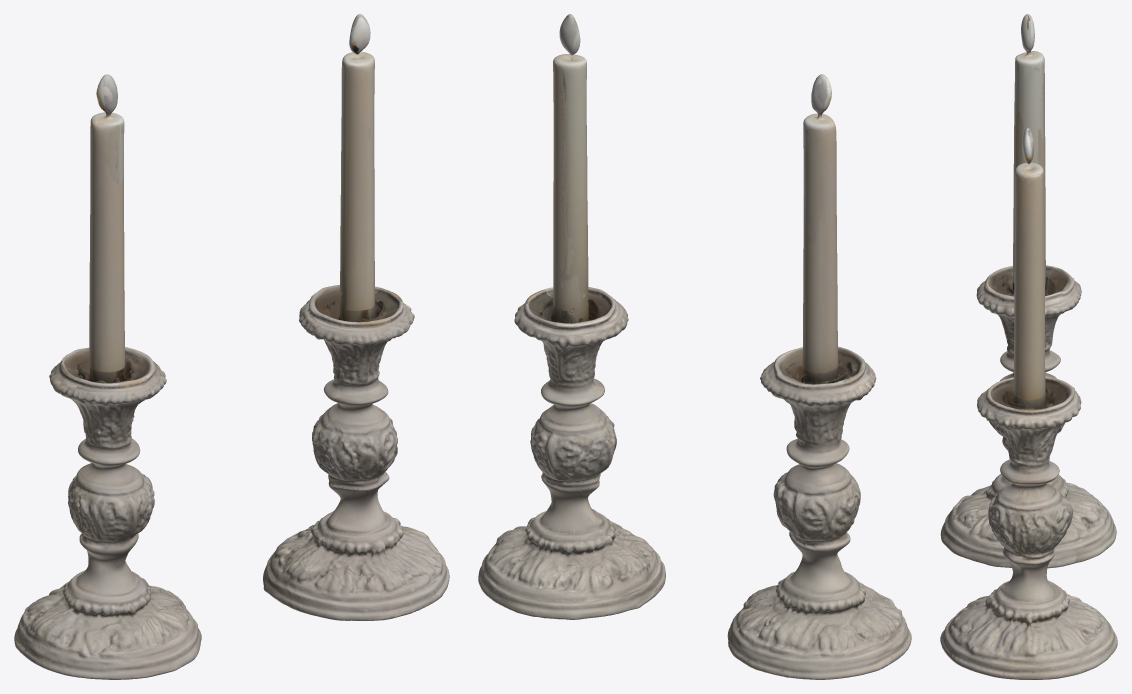
Rendered from Meshy_AI_Short_European_stlyed_0330052128_texture.glb.
3 renders of one model, left to right at view 1: azimuth 30°, elevation 25°; view 2: azimuth 150°, elevation 25°; view 3: azimuth 270°, elevation 25°, orthographic. The views are drawn at different scales.
Bounding box in the file's own units: 1.5 × 2 × 0.6205.
Materials: 1 (1 with a texture image).
